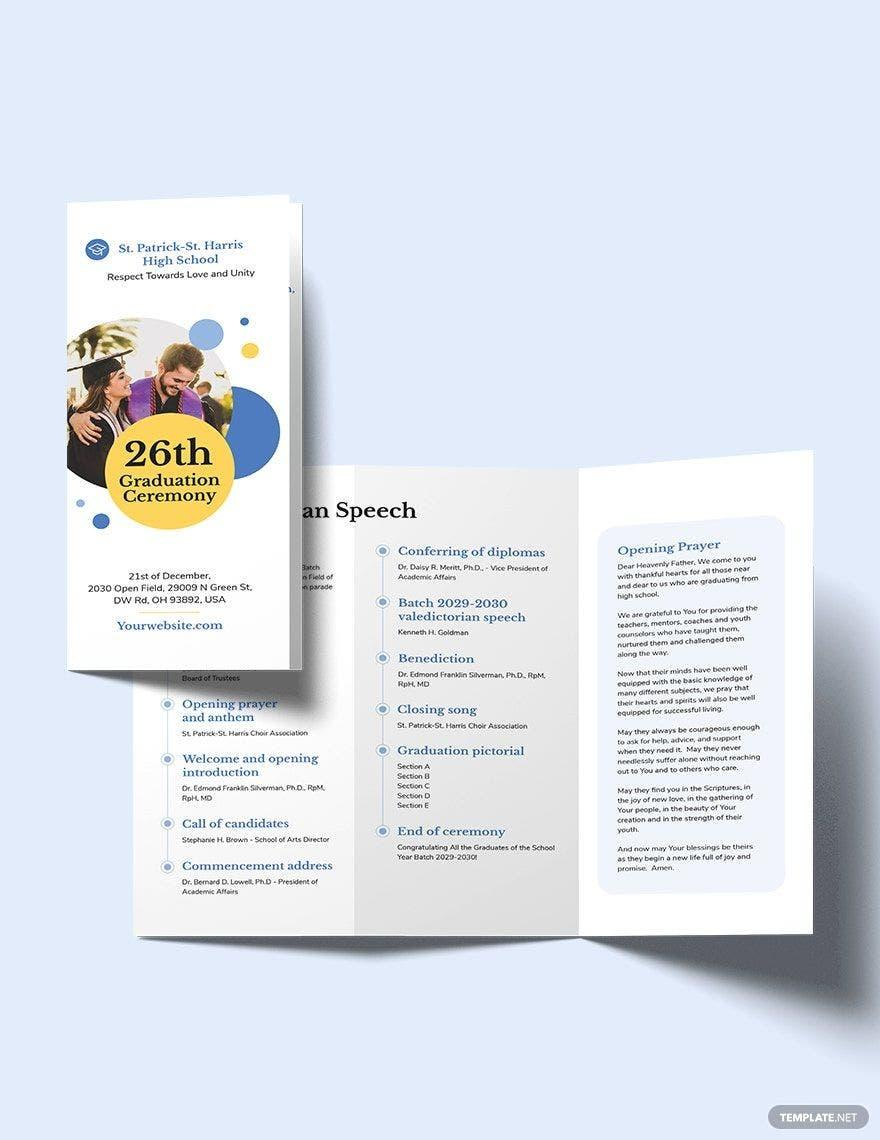paper: (65, 196, 787, 960)
